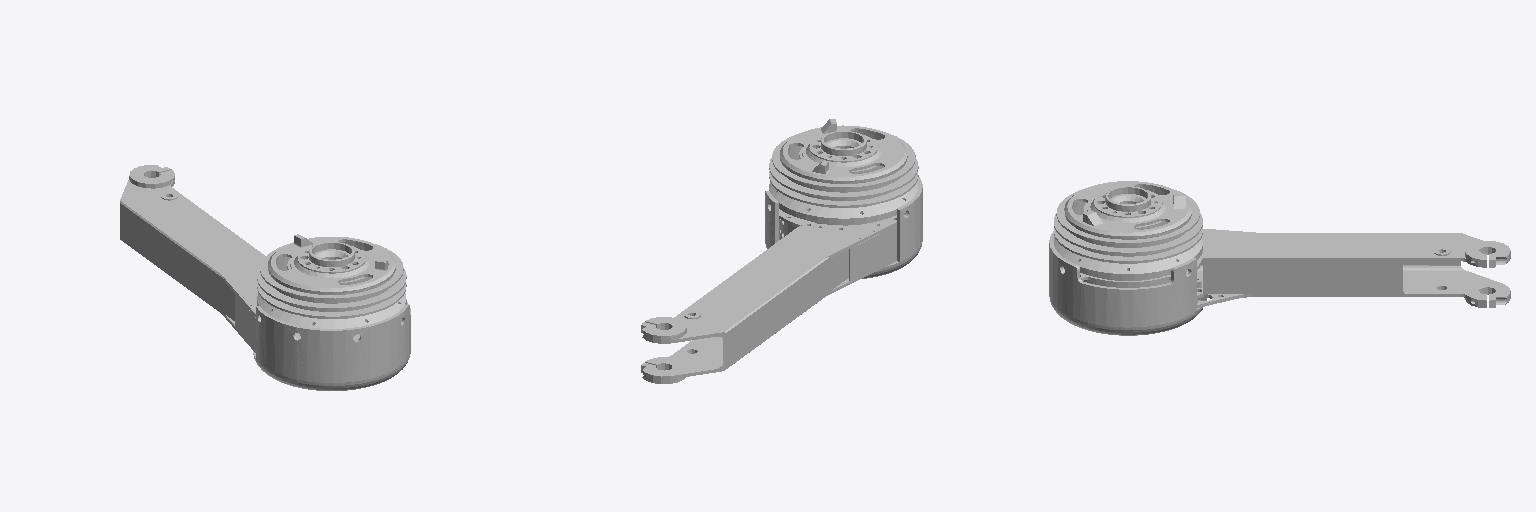
The model's file is R_THIGH.obj.
3 renders of one model, left to right at view 1: azimuth 30°, elevation 25°; view 2: azimuth 150°, elevation 25°; view 3: azimuth 270°, elevation 25°, orthographic.
Parts seen in each view (by area): view 1: default; view 2: default; view 3: default.
Part boxes in pixels (left/top/right/bottom): default: left=120, top=165, right=410, bottom=390; default: left=641, top=119, right=922, bottom=383; default: left=1049, top=181, right=1510, bottom=335.
Size of the model in its own units: 0.1099 by 0.0925 by 0.321.